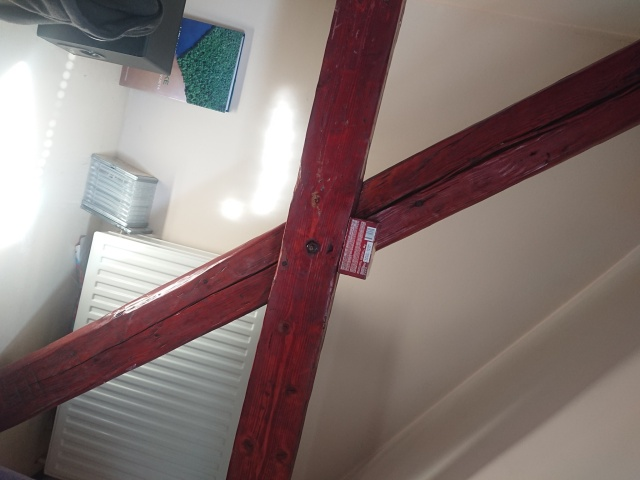Franck Apple Cinnamon Tea 60g: (334, 214, 382, 280)
